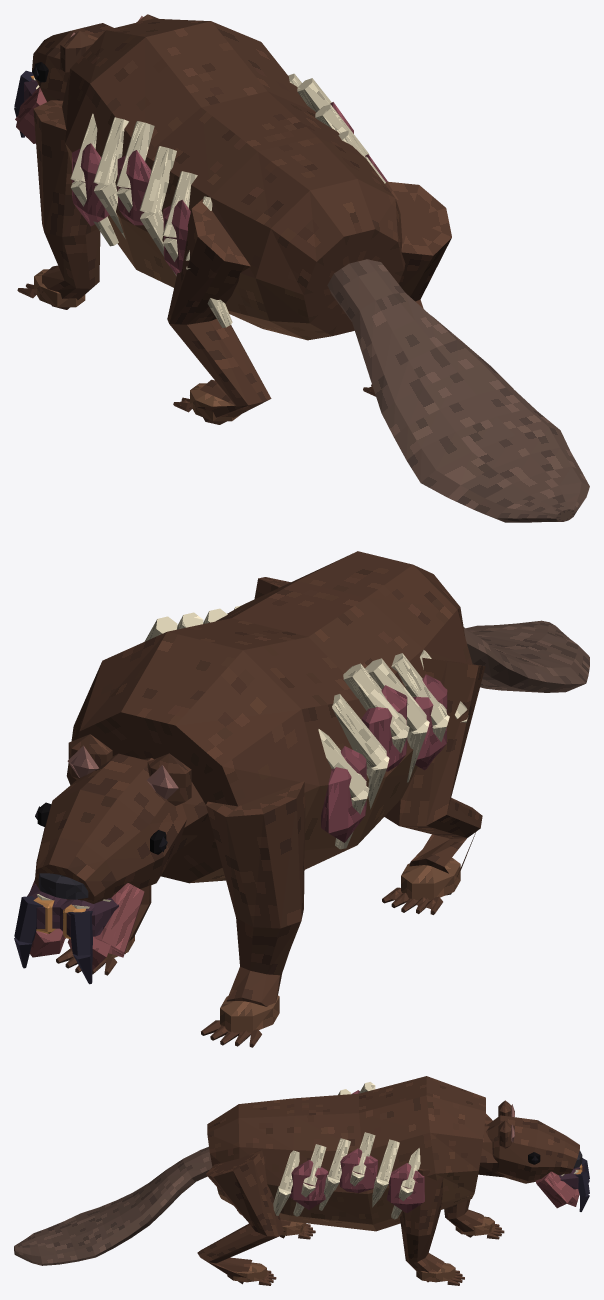
File: mon_zombeaver.glb
3 views of the same model, one above another, from view 1: azimuth 30°, elevation 25°; view 2: azimuth 150°, elevation 25°; view 3: azimuth 270°, elevation 25° (orthographic). The views are drawn at different scales.
Parts seen in each view (by area): view 1: closed_body; view 2: closed_body; view 3: closed_body.
Boxes of the visible parts, x1=… form: closed_body: x1=14, y1=14, x2=589, y2=522; closed_body: x1=14, y1=551, x2=589, y2=1047; closed_body: x1=14, y1=1076, x2=589, y2=1285.
Bounding box in the file's own units: 0.387 × 0.4328 × 1.29.
1 material, 1 textured.
